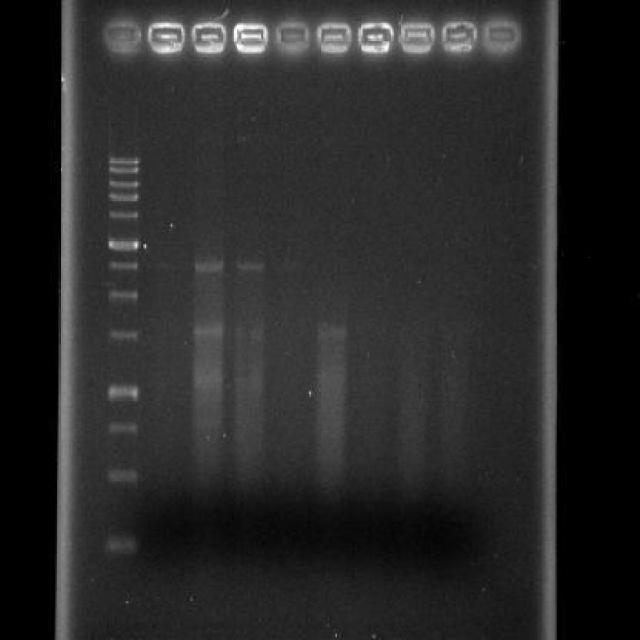B: (232, 255, 266, 278), (192, 256, 226, 278), (313, 322, 349, 340), (190, 322, 224, 340), (190, 374, 226, 390), (232, 324, 266, 339)
L: (94, 0, 530, 74)
M: (98, 117, 147, 568)
P: (101, 533, 141, 561), (102, 464, 140, 488), (104, 380, 140, 403), (105, 418, 138, 440), (105, 233, 141, 253), (106, 326, 140, 344), (106, 286, 140, 303), (106, 258, 140, 274), (106, 208, 140, 222), (106, 190, 140, 203), (106, 165, 140, 178), (106, 178, 140, 190), (108, 154, 140, 166)
Pc: (99, 9, 144, 60), (480, 10, 526, 59), (146, 10, 186, 59), (188, 13, 229, 59), (397, 15, 437, 60), (272, 14, 312, 57), (440, 15, 478, 60), (232, 16, 270, 58), (315, 18, 353, 58), (356, 18, 394, 58)
